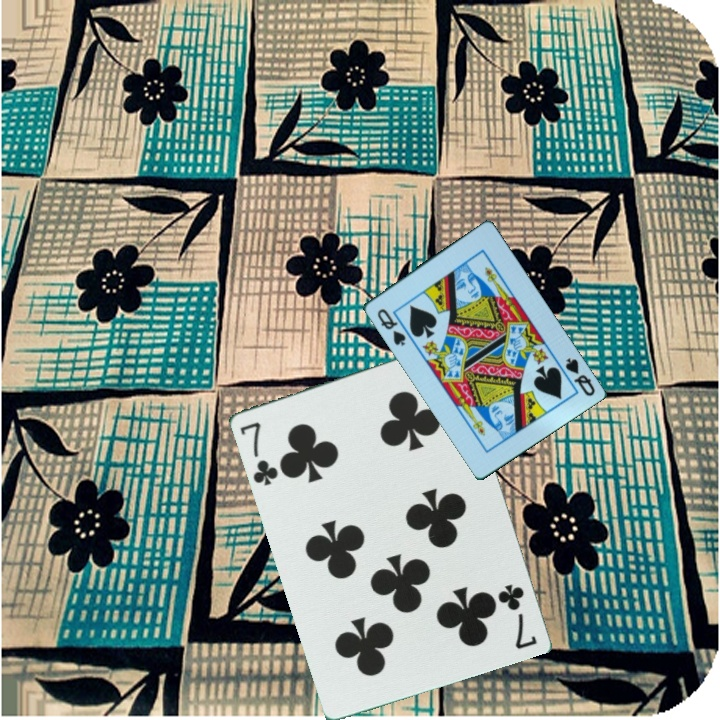7c: (235, 418, 281, 489), (496, 580, 539, 652)
Qs: (561, 354, 598, 399), (373, 305, 408, 348)
